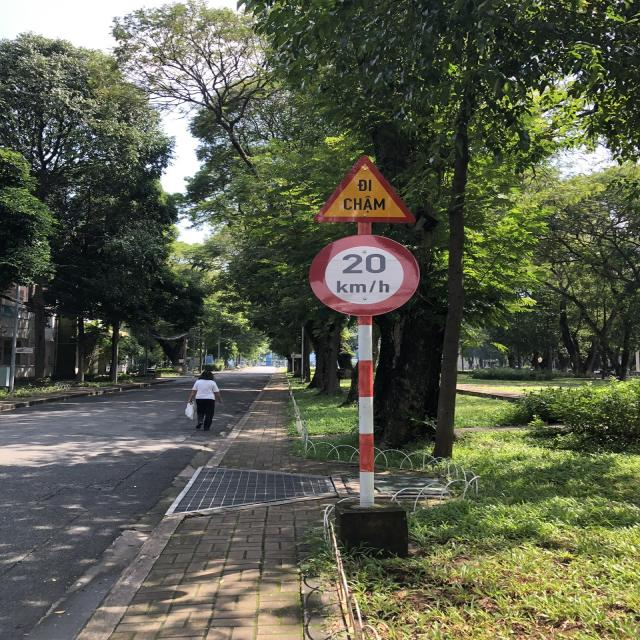Bien bao di cham: (306, 152, 419, 226)
Bien bao toc do toi da cho phep: (305, 232, 424, 320)
